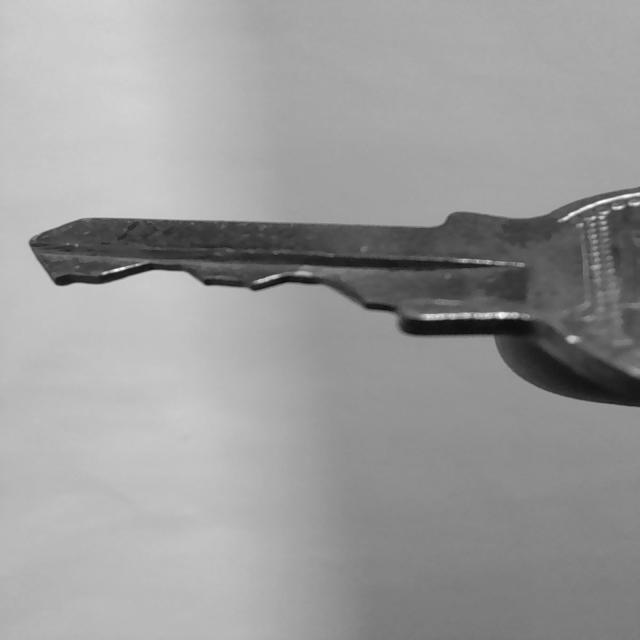KEY: (29, 189, 639, 404)
